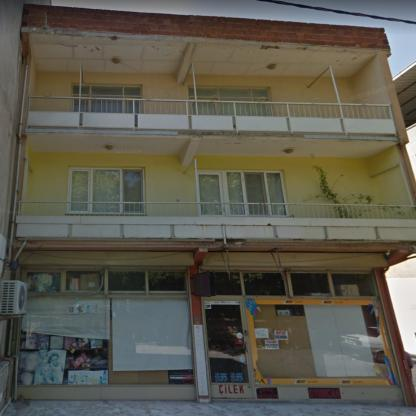door: (204, 299, 254, 399)
window: (214, 266, 380, 298), (20, 265, 188, 293), (198, 171, 287, 215), (69, 168, 144, 212), (189, 86, 272, 116), (73, 85, 142, 112)
